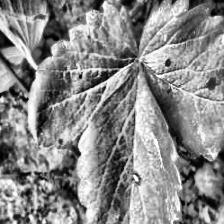Leaf Spot: (76, 60, 182, 224), (28, 3, 138, 150), (136, 0, 224, 162), (193, 156, 224, 199)
